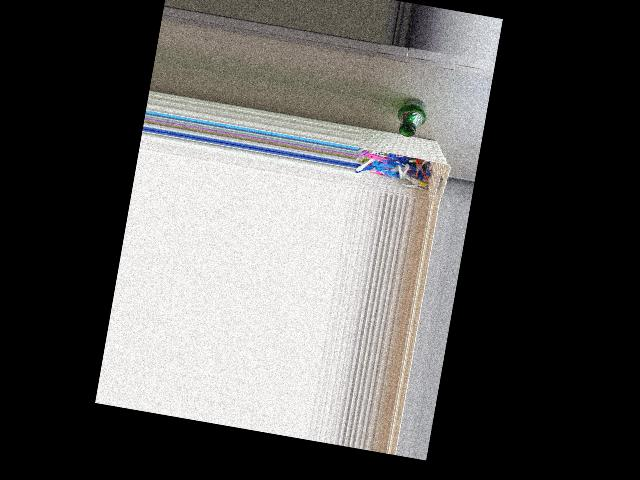beer: (393, 95, 429, 139)
